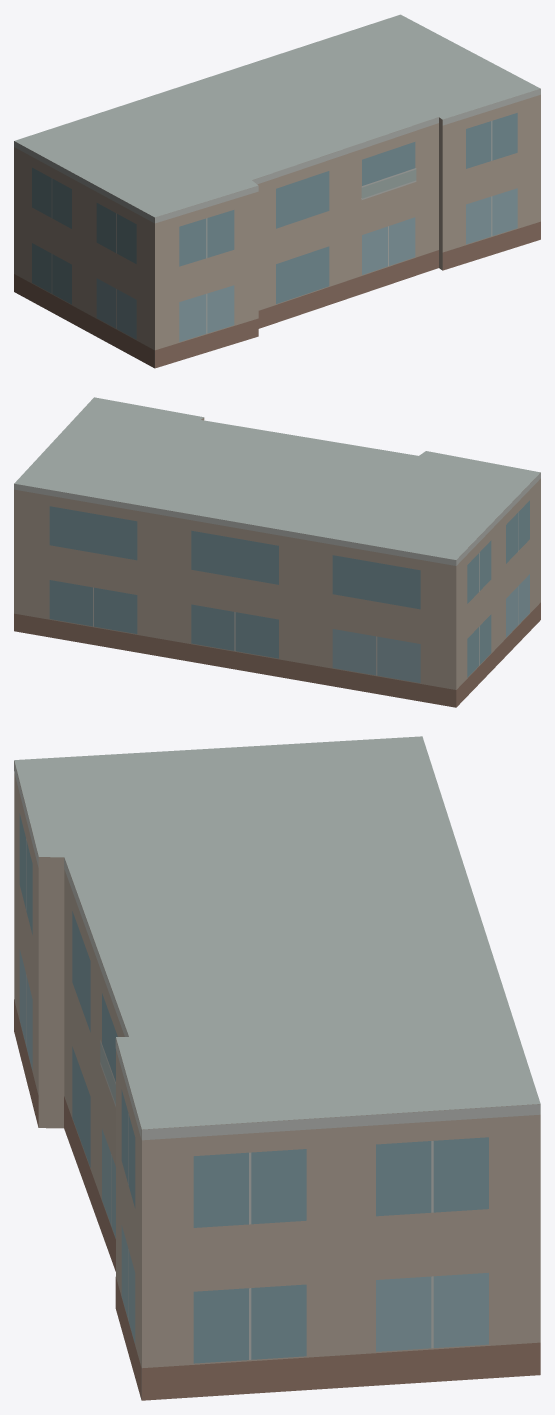
Rendered from survey-upis-32616222.glb.
3 views of the same model, one above another, from view 1: azimuth 30°, elevation 25°; view 2: azimuth 150°, elevation 25°; view 3: azimuth 270°, elevation 25° (orthographic). The views are drawn at different scales.
Parts seen in each view (by area): view 1: survey-upis-32616222.tmp; view 2: survey-upis-32616222.tmp; view 3: survey-upis-32616222.tmp.
Boxes of the visible parts, x1,y1,x2,y2 form: survey-upis-32616222.tmp: (14,14,540,368); survey-upis-32616222.tmp: (14,397,540,707); survey-upis-32616222.tmp: (14,736,540,1400).
Size of the model in its own units: 18.99 by 6.1 by 10.75.
